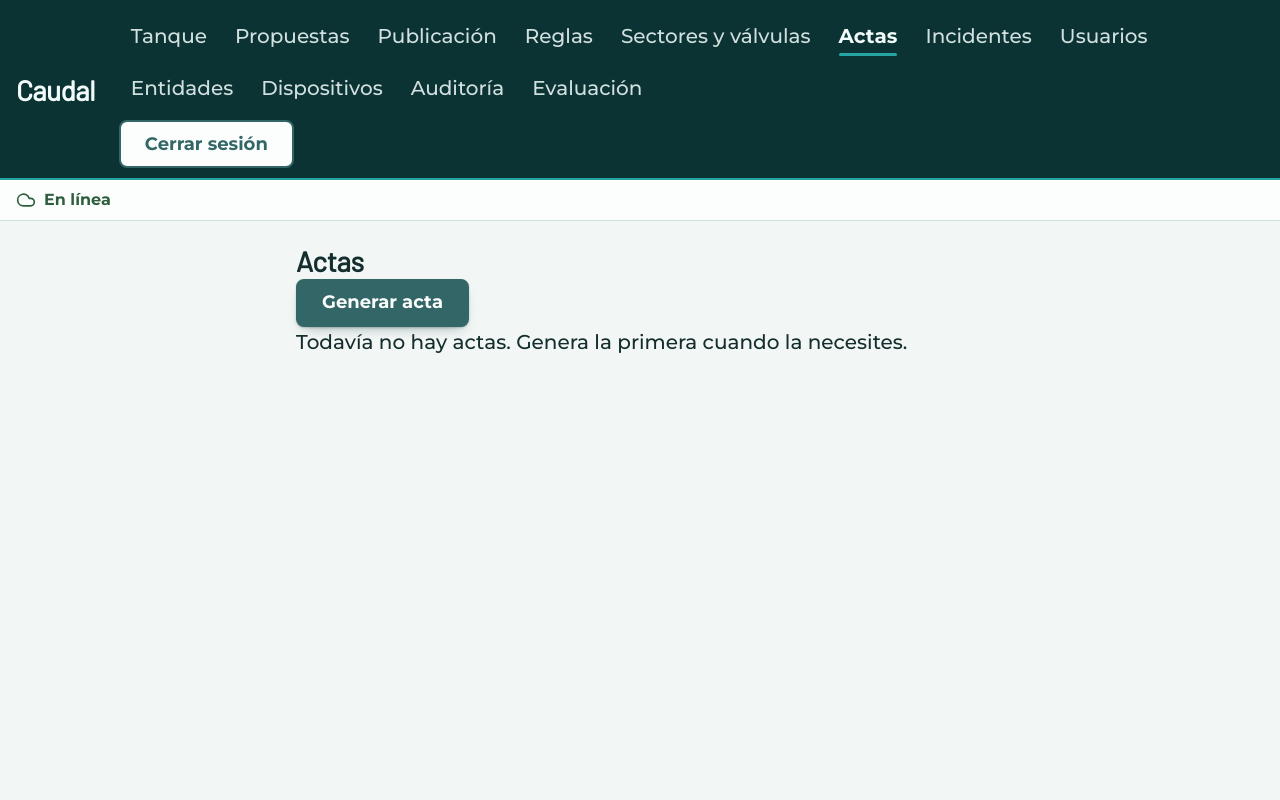
Test case: actas (S20) de principio a fin › generates an acta, reads its four sections, finalizes it and offers the PDF
The image size is (1280, 800).
Click the button "Generar acta" at (382, 303), box [296,279,469,327]
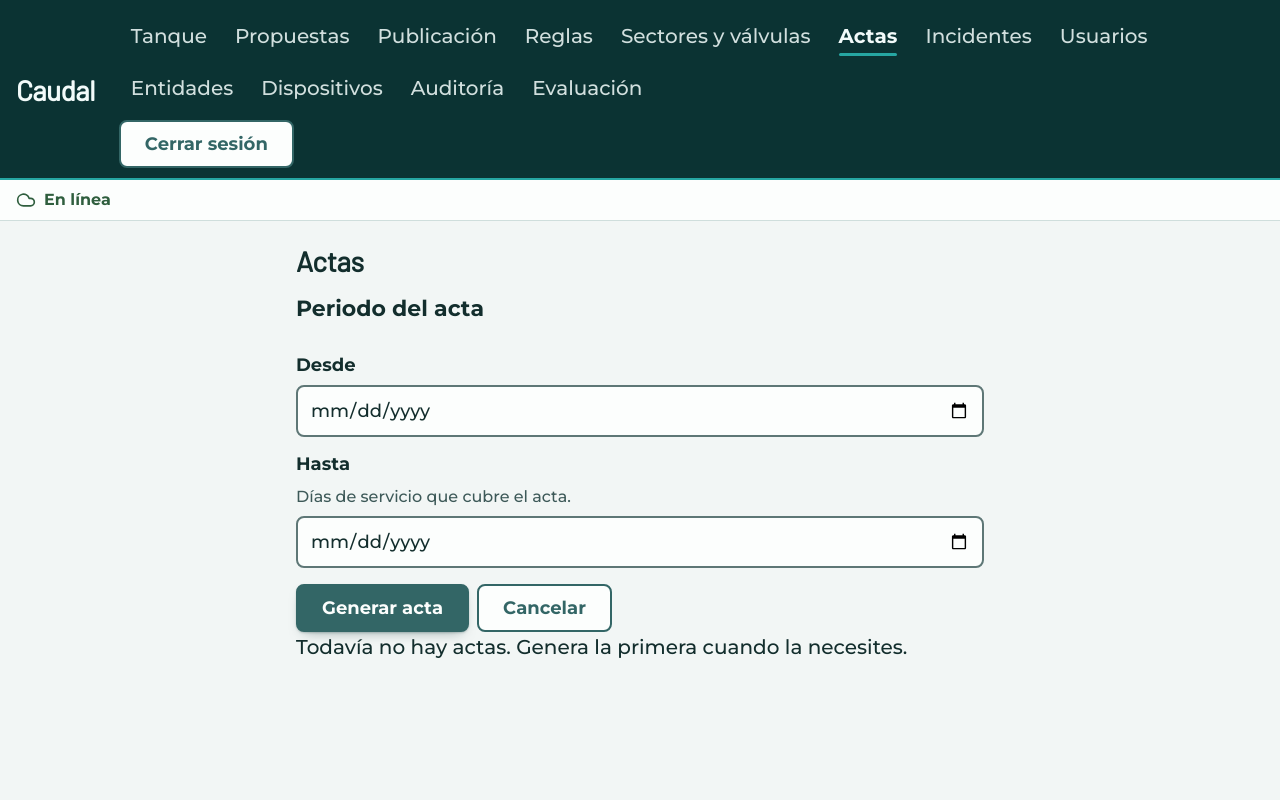
Type "2026-10-01" into the date field labelled "Desde" at (640, 412), box [296,386,984,438]
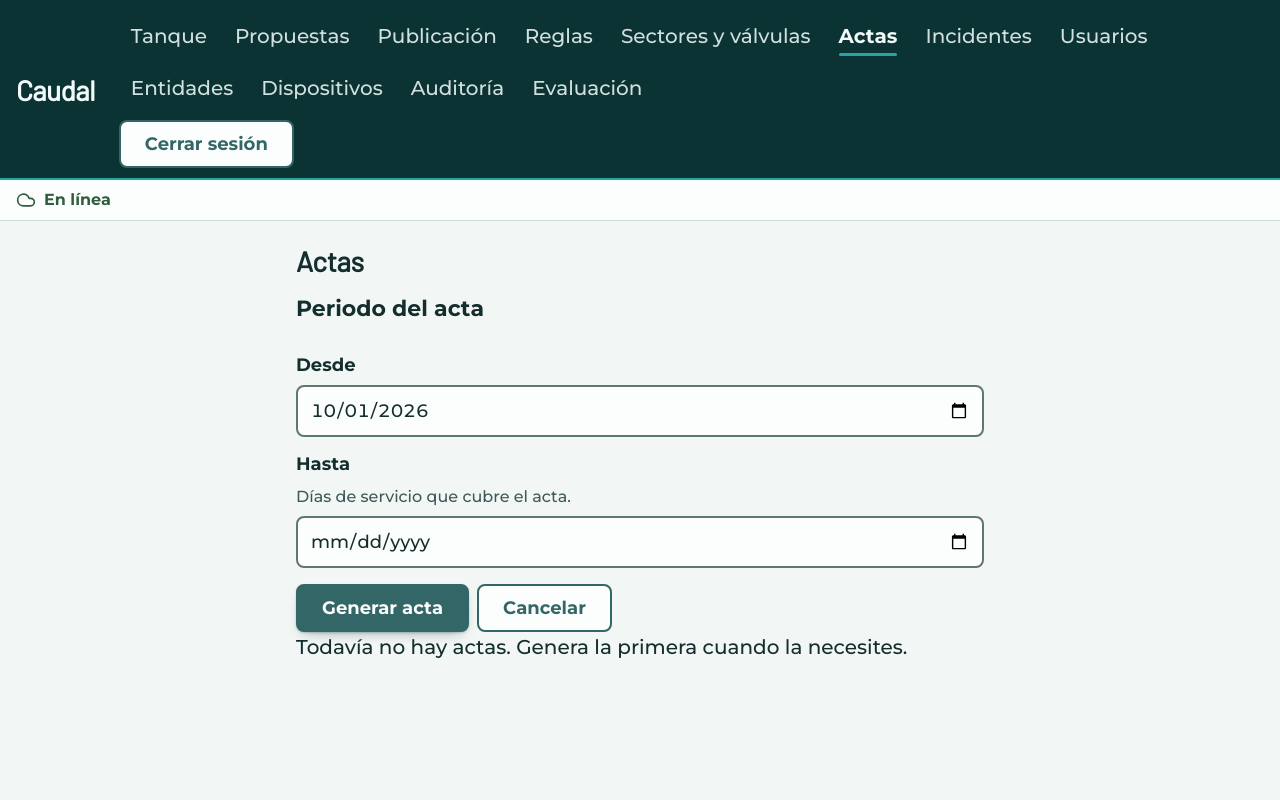
Type "2026-10-07" into the date field labelled "Hasta" at (640, 542), box [296,516,984,568]
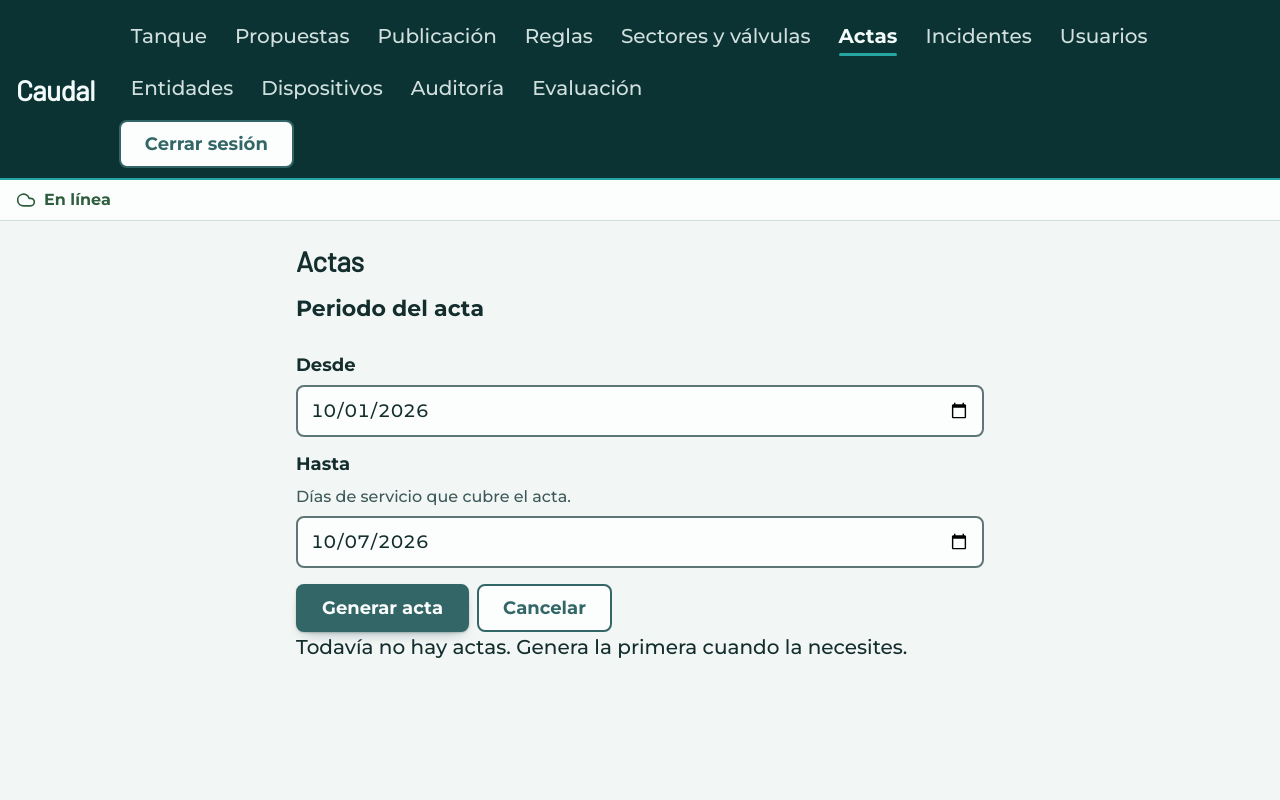
Click the button "Generar acta" at (382, 608), box [296,584,469,632]
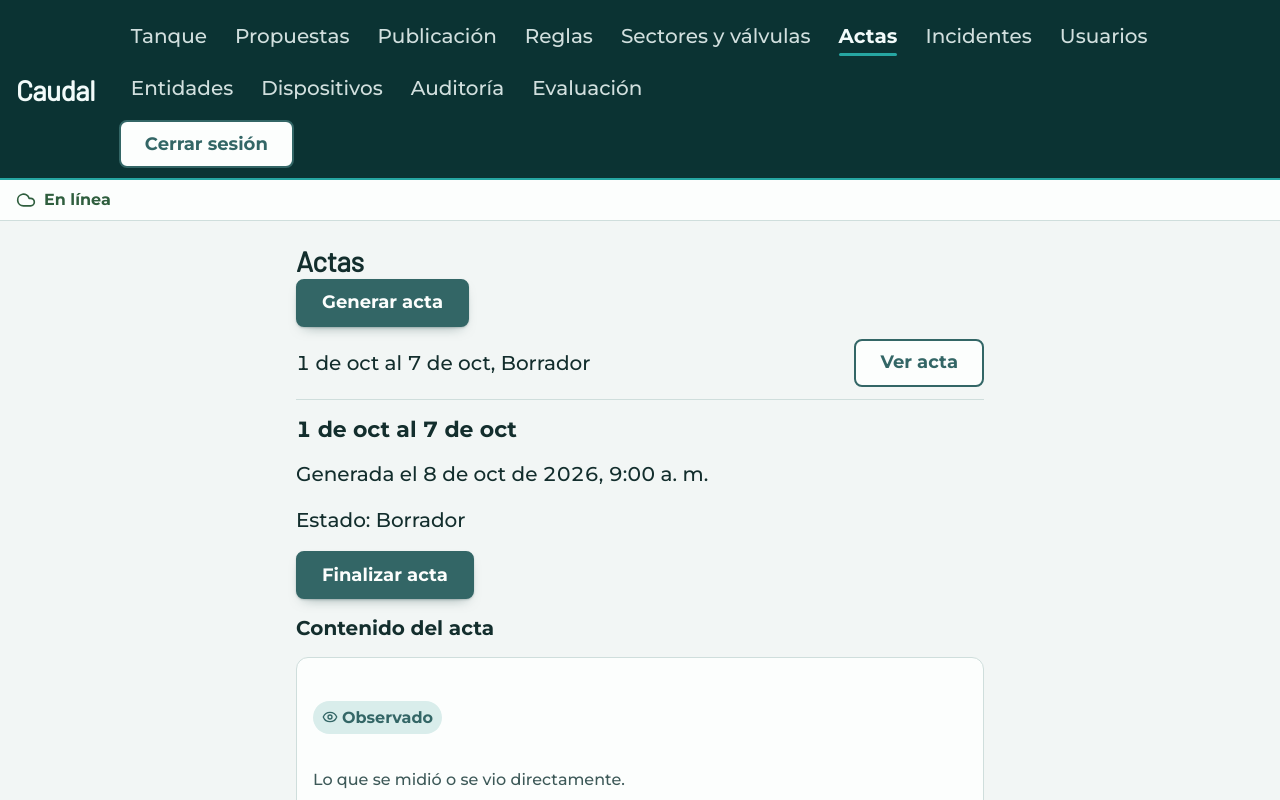
Expected: the heading "Observado" is shown, [313,701,442,734]
Click the button "Finalizar acta" at (385, 575), box [296,551,474,599]
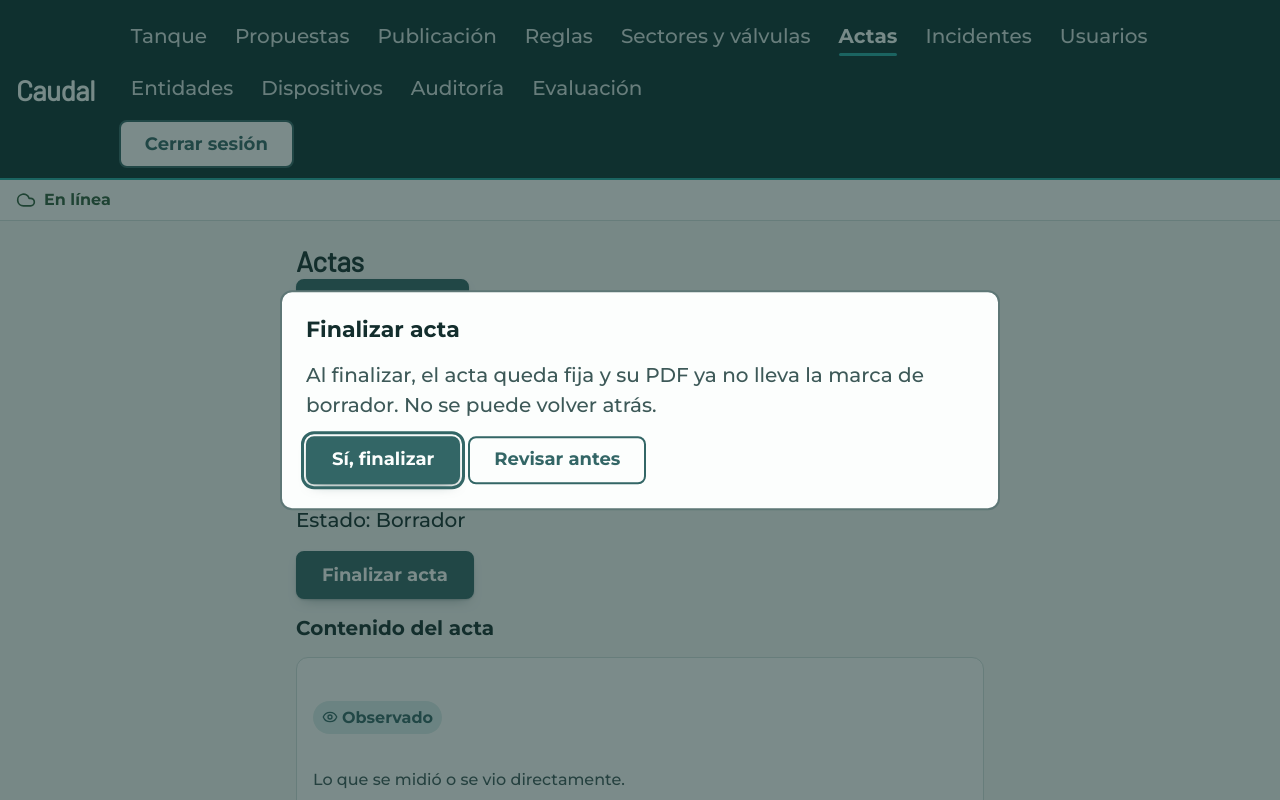
Click the button "Sí, finalizar" at (383, 460), box [306,436,460,484]
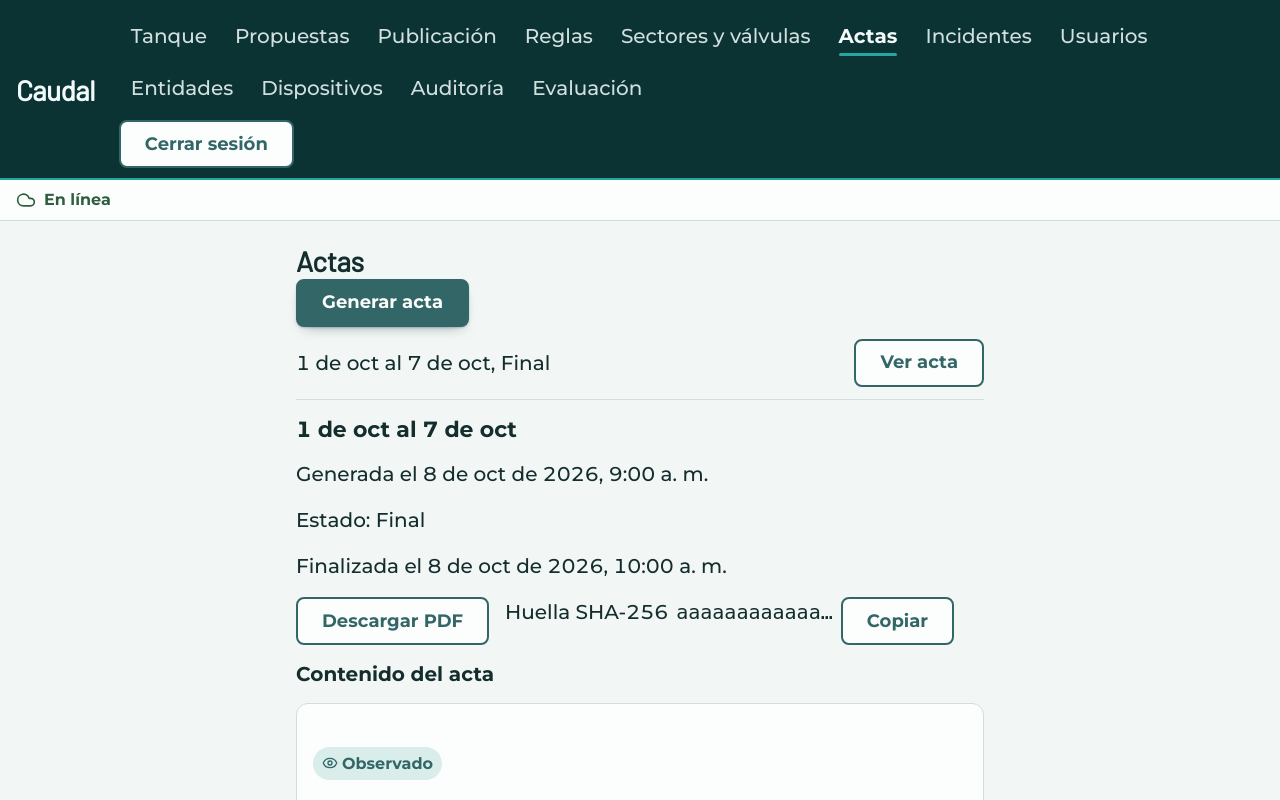
Expected: the button "Descargar PDF" is enabled, [296,597,489,645]
